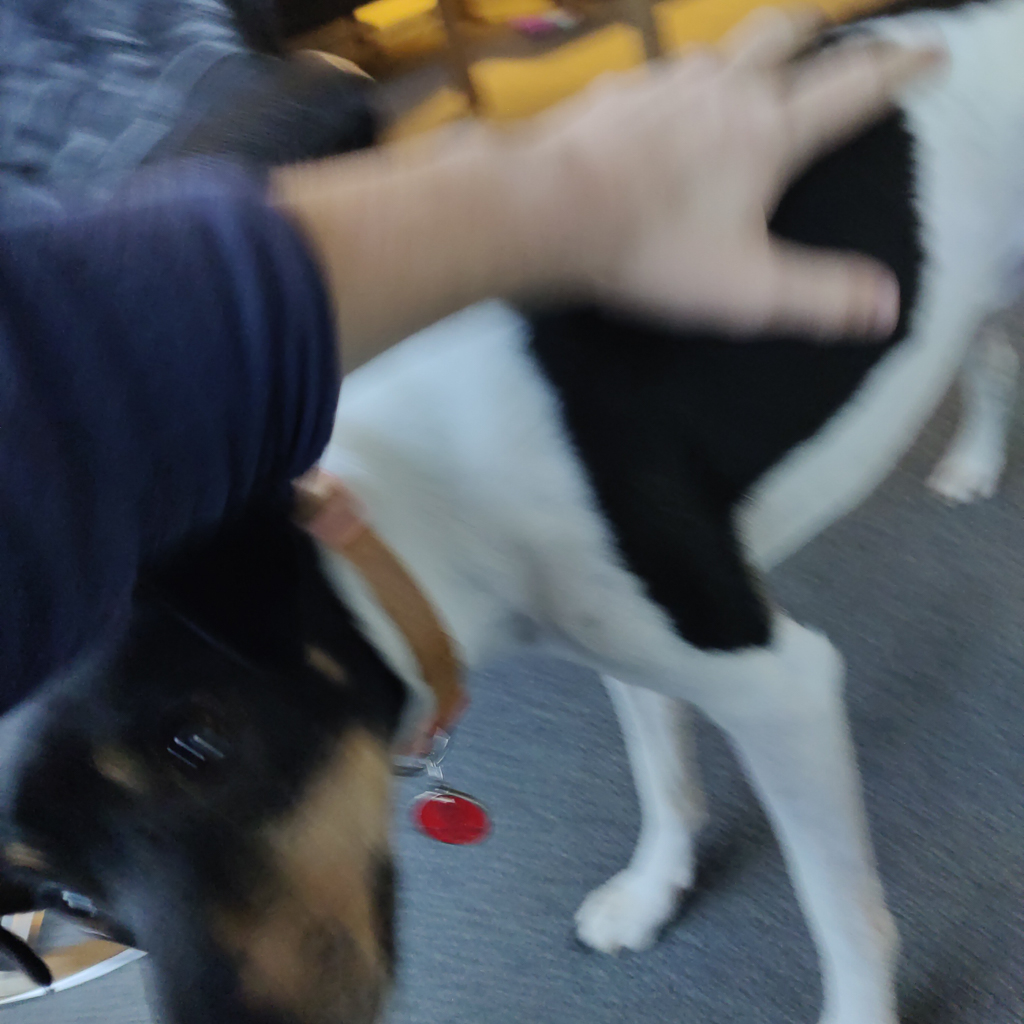Dog: (0, 0, 1024, 1024)
Humanoid: (0, 0, 973, 742)
